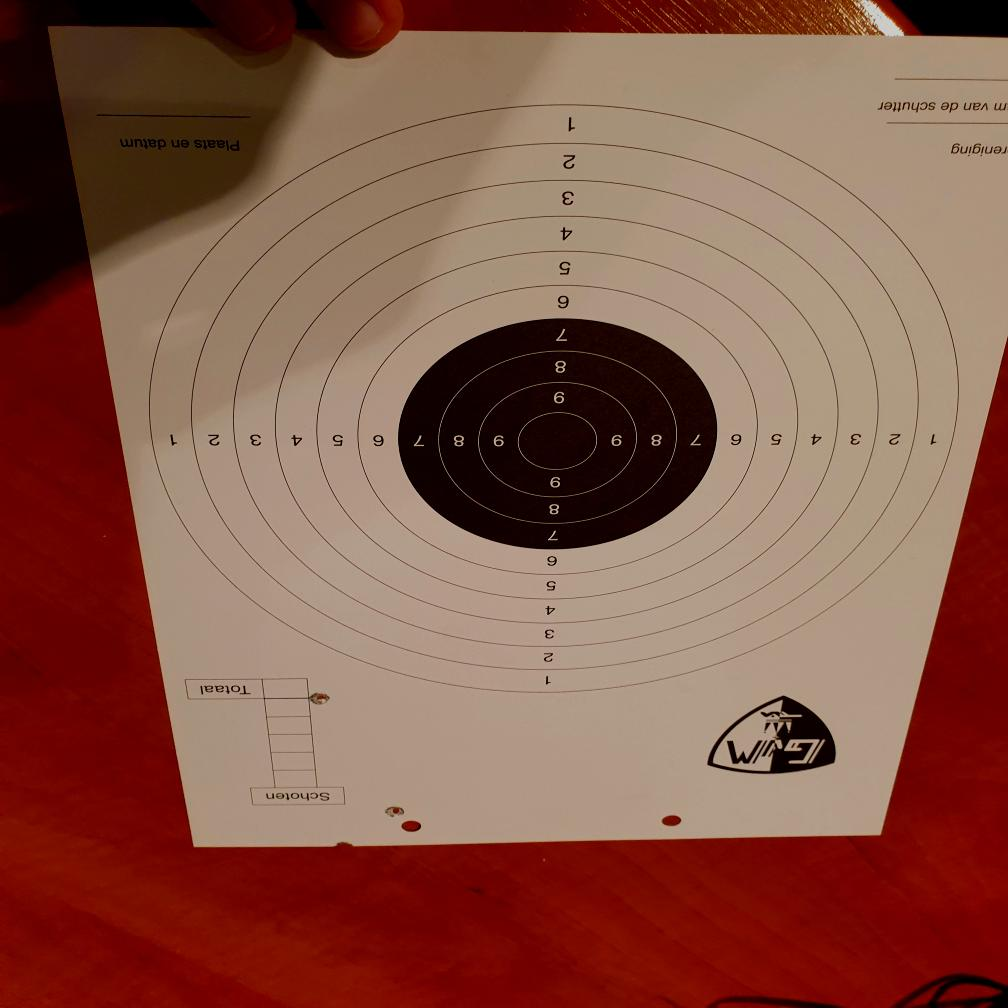0: (309, 691, 332, 707), (383, 805, 405, 818), (335, 842, 353, 846)
Target: (148, 101, 964, 697)
black_contour: (398, 319, 719, 550)
